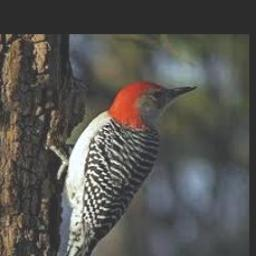Woodpecker: (51, 80, 197, 256)
